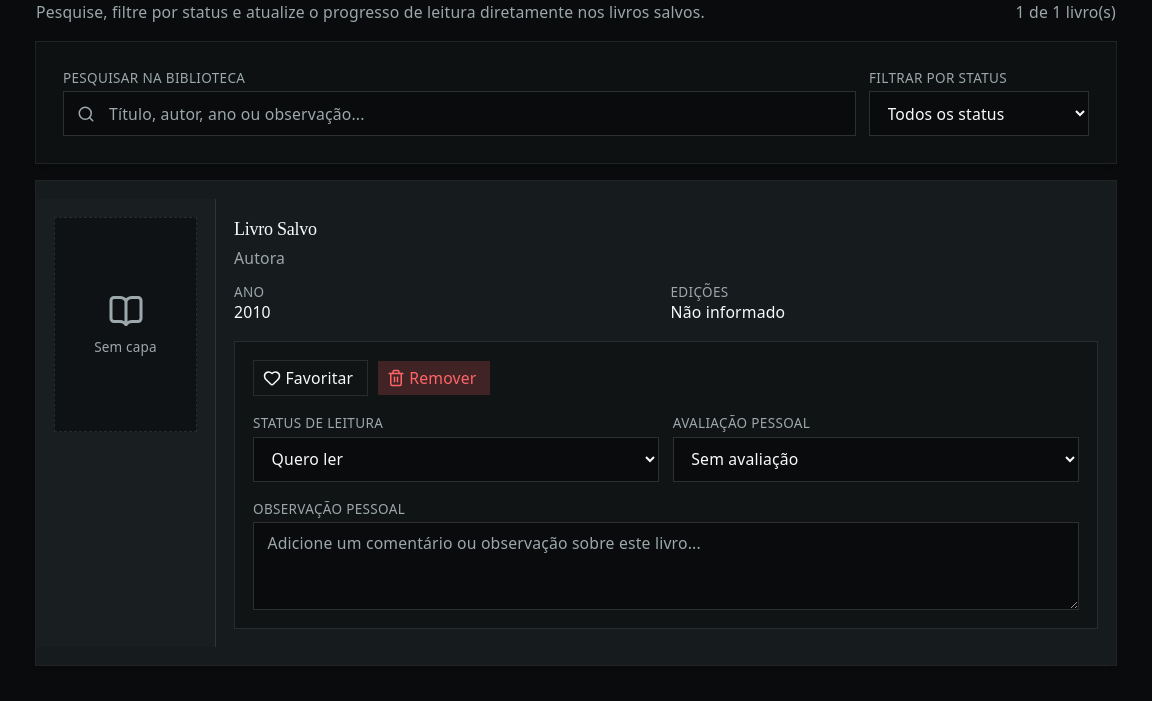
Test: Biblioteca pessoal › marca favorito e persiste
(page scrolled)
Click the button "Favoritar".
click(310, 378)  # box [253, 360, 368, 396]
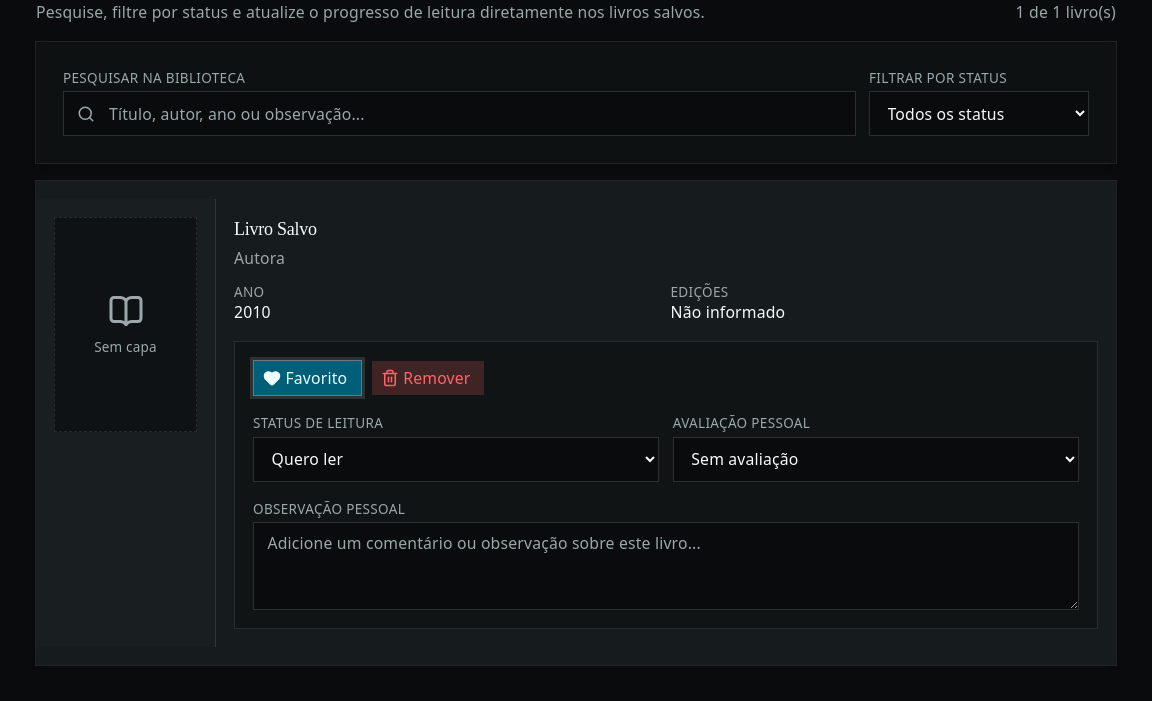
Now the button "Favorito" is shown, box [253, 360, 362, 396]
